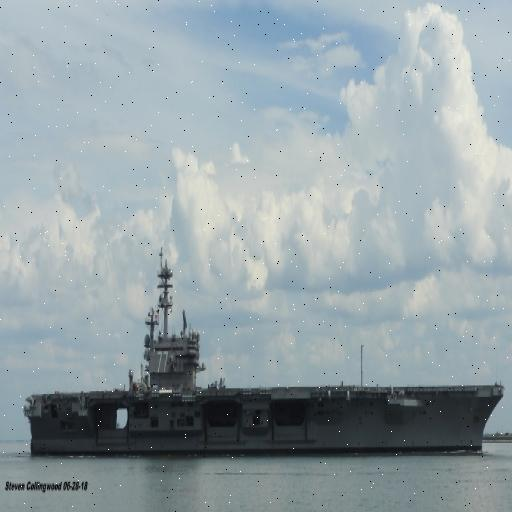Portanaves: (23, 240, 508, 467)
